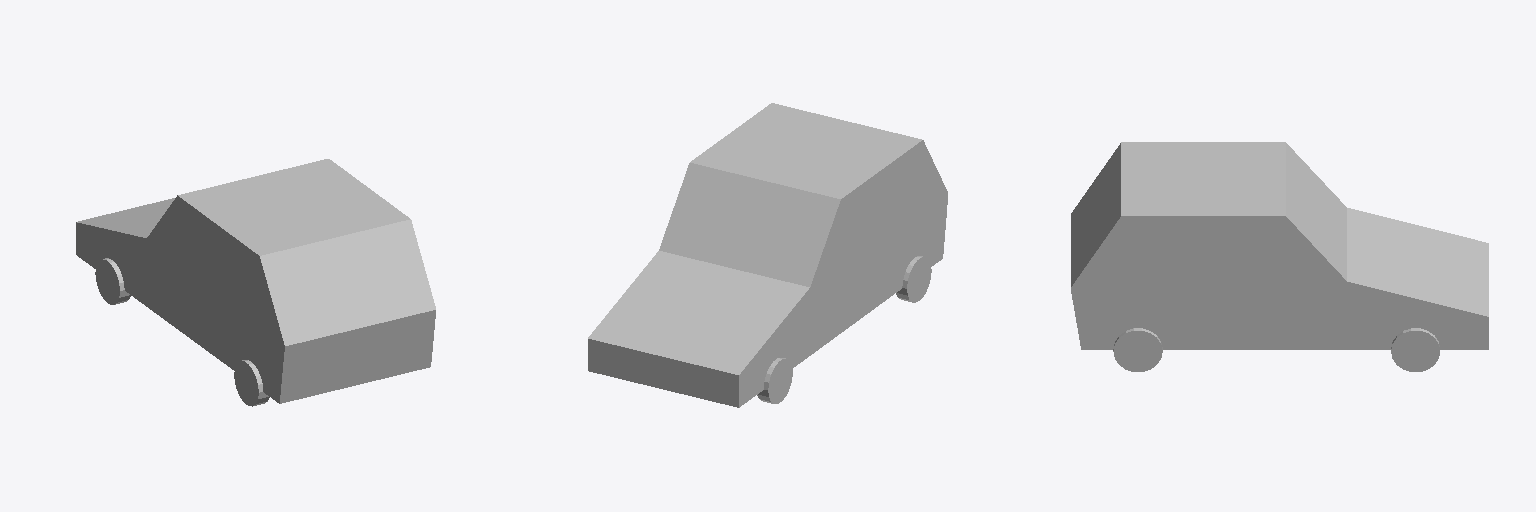
The model's file is car2.obj.
3 renders of one model, left to right at view 1: azimuth 30°, elevation 25°; view 2: azimuth 150°, elevation 25°; view 3: azimuth 270°, elevation 25°, orthographic.
Parts seen in each view (by area): view 1: CAR_02 메시; view 2: CAR_02 메시; view 3: CAR_02 메시.
Part boxes in pixels (x1,y1,x2,y2): CAR_02 메시: (76, 159, 435, 406); CAR_02 메시: (588, 103, 947, 407); CAR_02 메시: (1071, 142, 1488, 371).
Size of the model in its own units: 2.52 by 2.31 by 5.68.